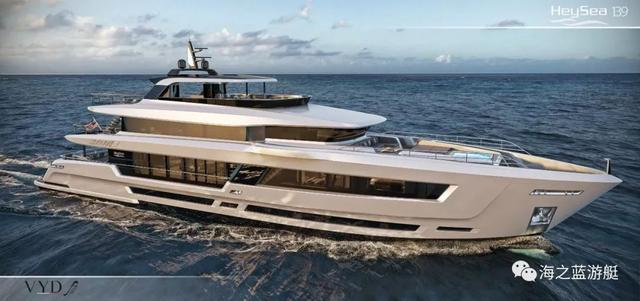yacht: (25, 34, 623, 234)
